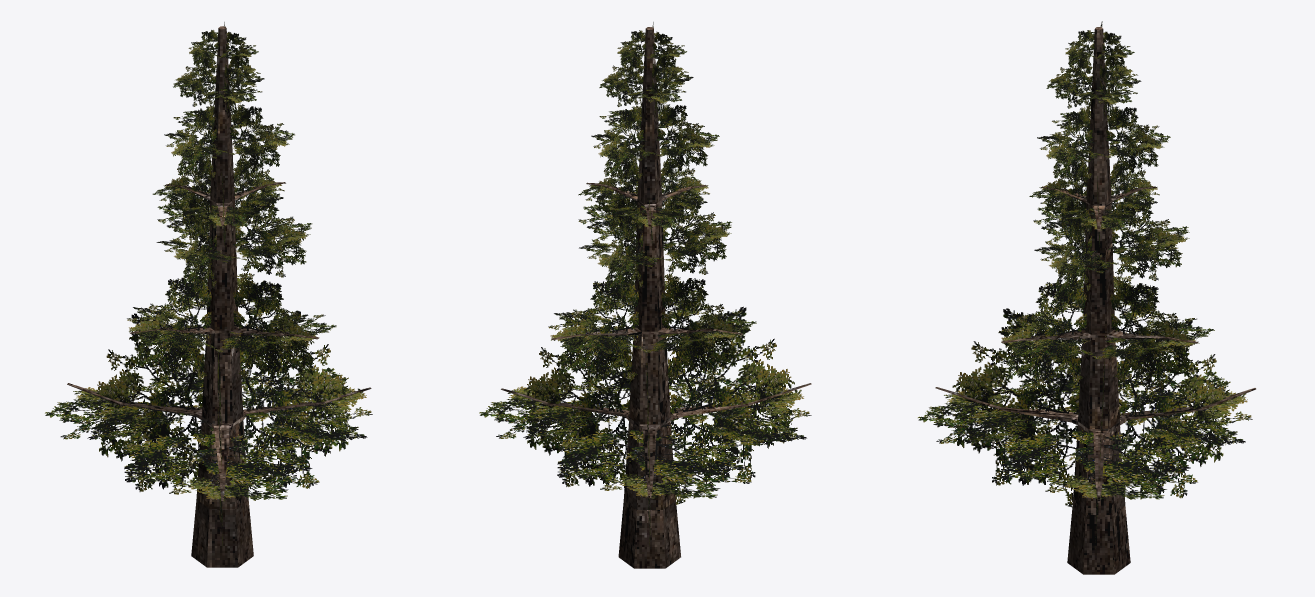
File: pixel_tree_lowpoly_dark.fbx
The picture shows the model from 3 angles, left to right: view 1: azimuth 30°, elevation 25°; view 2: azimuth 150°, elevation 25°; view 3: azimuth 270°, elevation 25°; orthographic projection.
Visible parts, largest first — view 1: psx_foliage_dark, psx_tree_log, psx_foliage2_dark; view 2: psx_foliage_dark, psx_tree_log, psx_foliage2_dark; view 3: psx_foliage_dark, psx_tree_log, psx_foliage2_dark.
Boxes of the visible parts, <box> form: psx_foliage_dark: <box>45,22,372,546</box>; psx_tree_log: <box>67,26,371,567</box>; psx_foliage2_dark: <box>50,30,370,544</box>; psx_foliage_dark: <box>479,22,811,547</box>; psx_tree_log: <box>501,27,811,568</box>; psx_foliage2_dark: <box>481,23,808,540</box>; psx_foliage_dark: <box>918,21,1252,548</box>; psx_tree_log: <box>935,27,1255,574</box>; psx_foliage2_dark: <box>922,30,1251,528</box>.
Size of the model in its own units: 1128 by 1863 by 1302.
